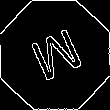M_SE: (24, 23, 86, 87)
